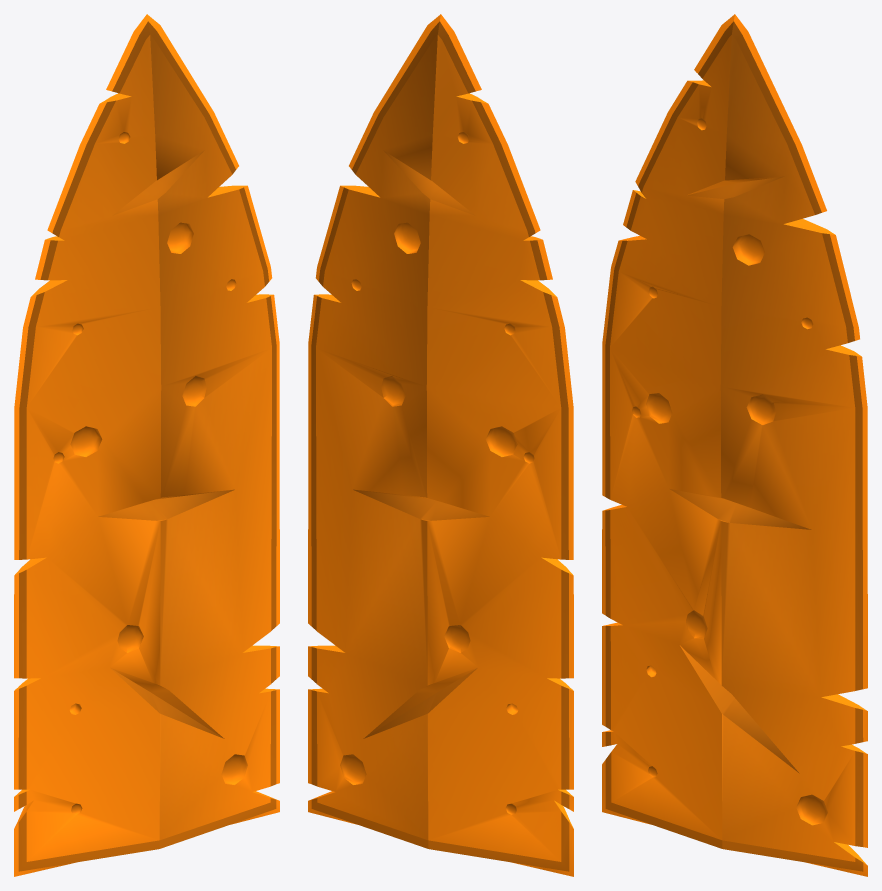
File: bronze_blade_bubbles_035.glb
The picture shows the model from 3 angles, left to right: view 1: azimuth 30°, elevation 25°; view 2: azimuth 150°, elevation 25°; view 3: azimuth 330°, elevation 25°; orthographic projection.
Visible parts, largest first — view 1: bronze_blade_bubbles.035; view 2: bronze_blade_bubbles.035; view 3: bronze_blade_bubbles.035.
Boxes of the visible parts, x1,y1,x2,y2 form: bronze_blade_bubbles.035: (14, 14, 279, 876); bronze_blade_bubbles.035: (308, 14, 573, 876); bronze_blade_bubbles.035: (602, 14, 867, 876).
Size of the model in its own units: 3.82 by 11.43 by 0.706.
Materials: 1 (1 with a texture image).
